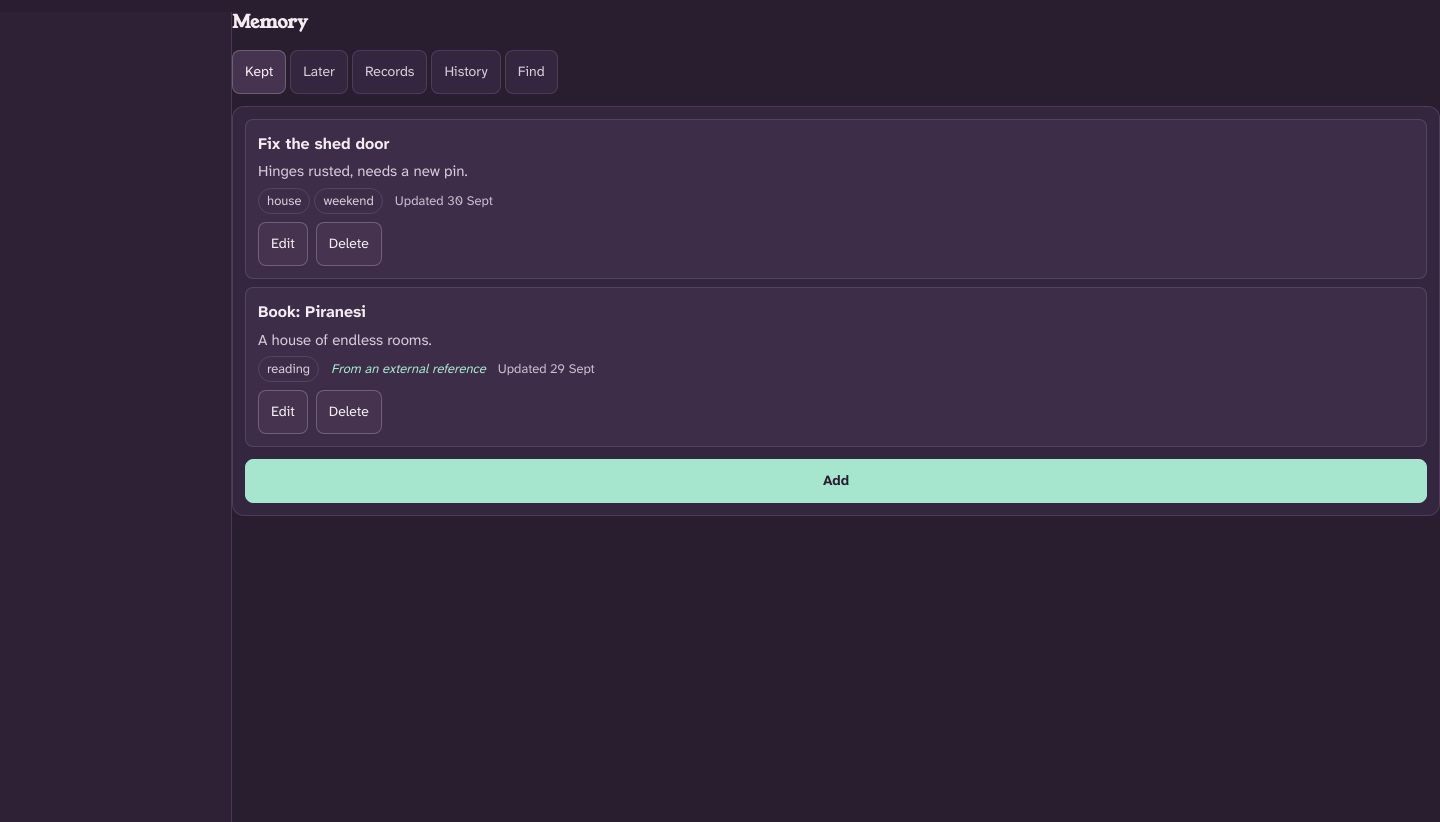
Test case: Memory add › Add posts only that table's fields plus title, with the CSRF header, and the new row appears
Click the tab "Kept" at (259, 72), box [232,50,286,94]
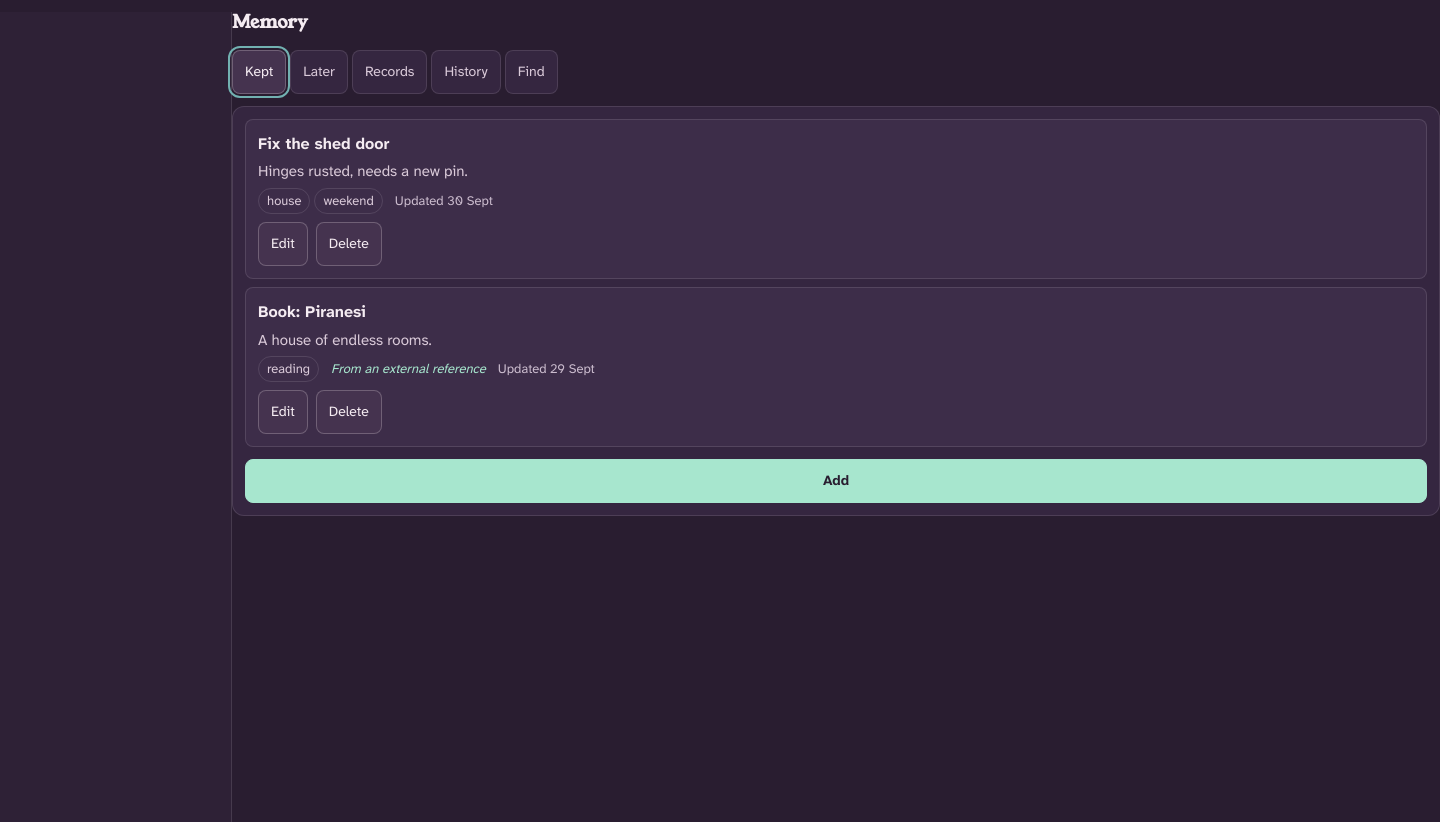
Click the button "Add" at (836, 481), box [245,459,1427,503]
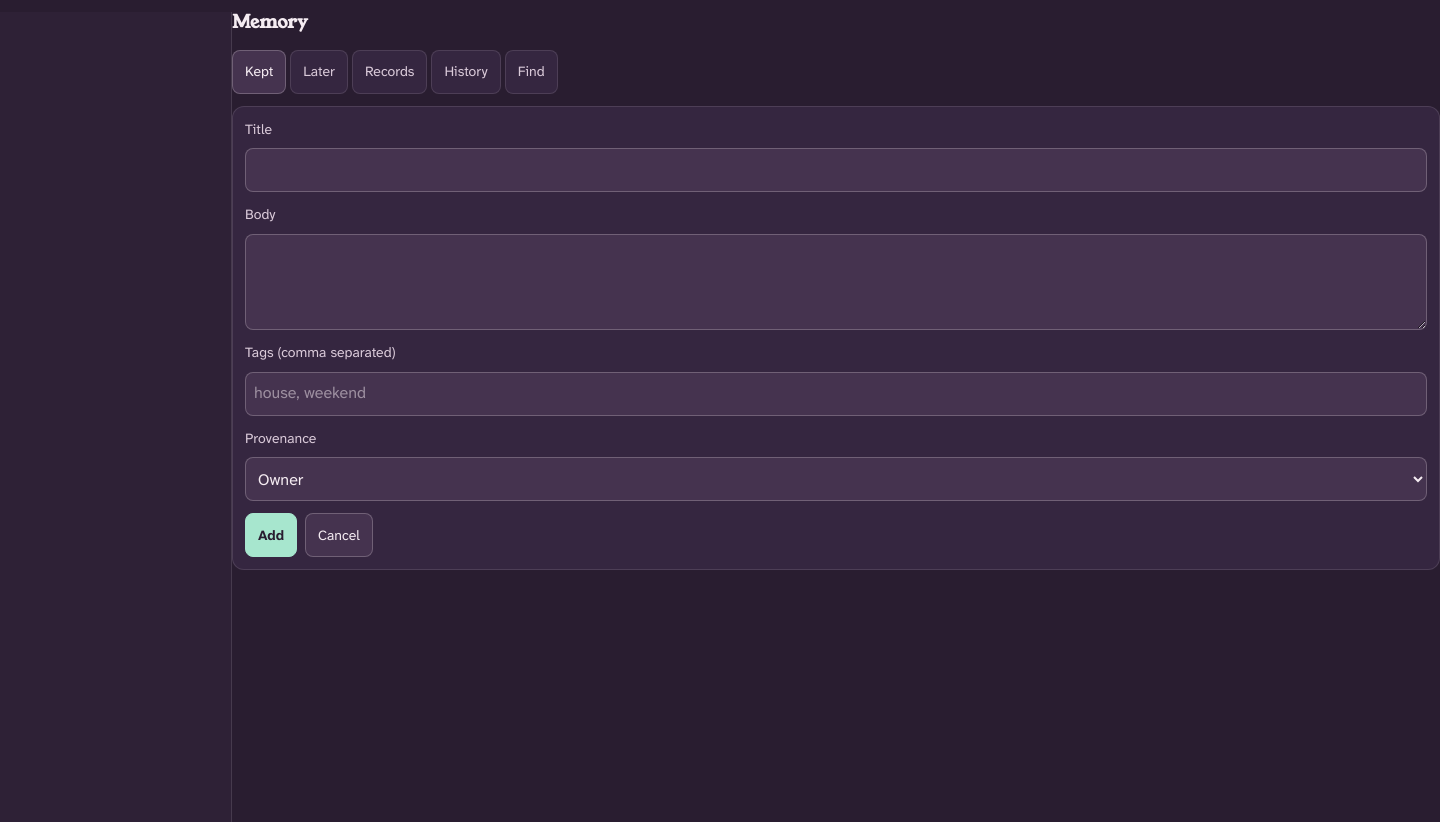
Type "Plant the garlic" into the field labelled "Title" at (836, 170), box [245,148,1427,192]
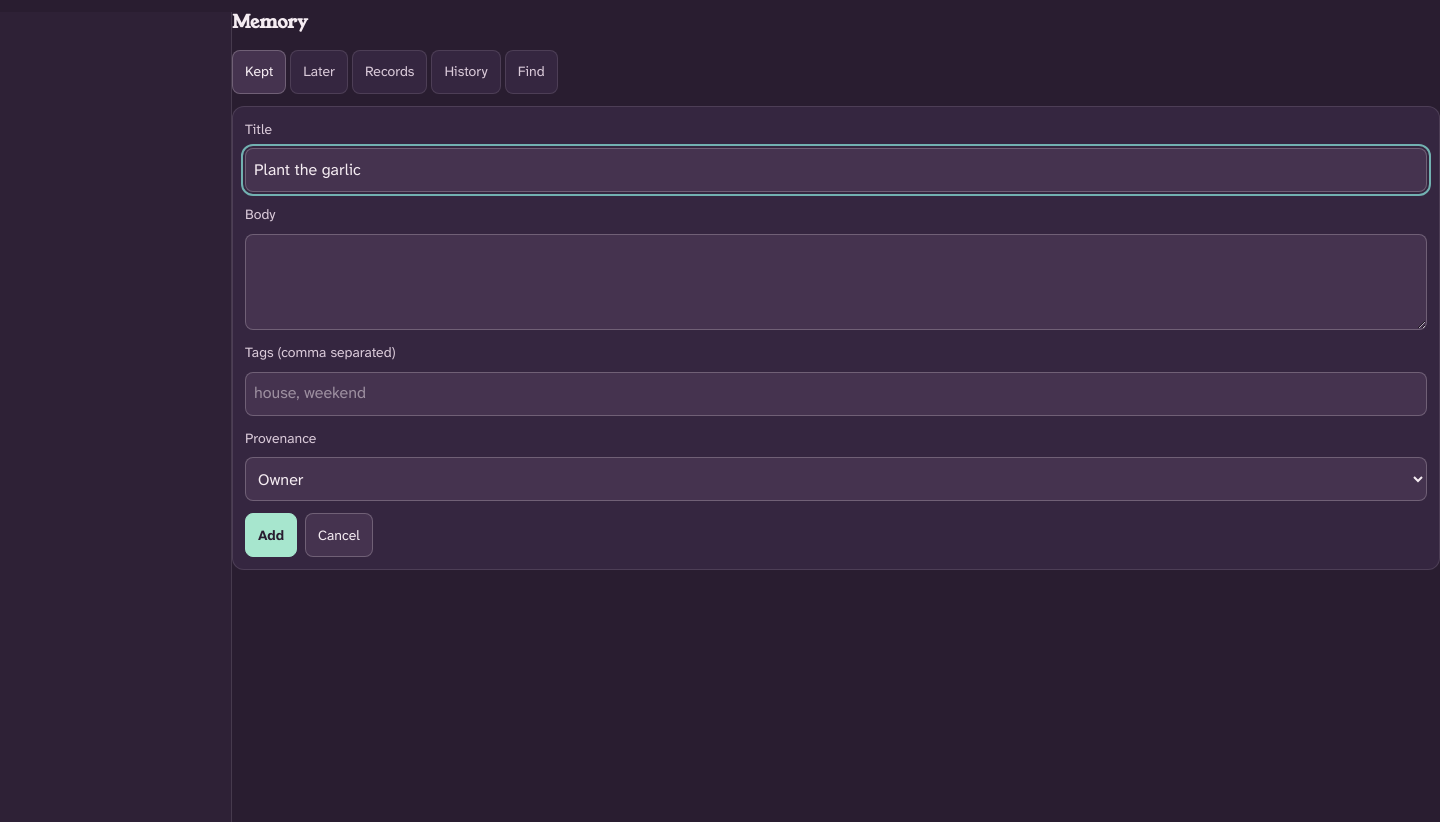
Type "In the back bed." into the text box labelled "Body" at (836, 282), box [245,234,1427,330]
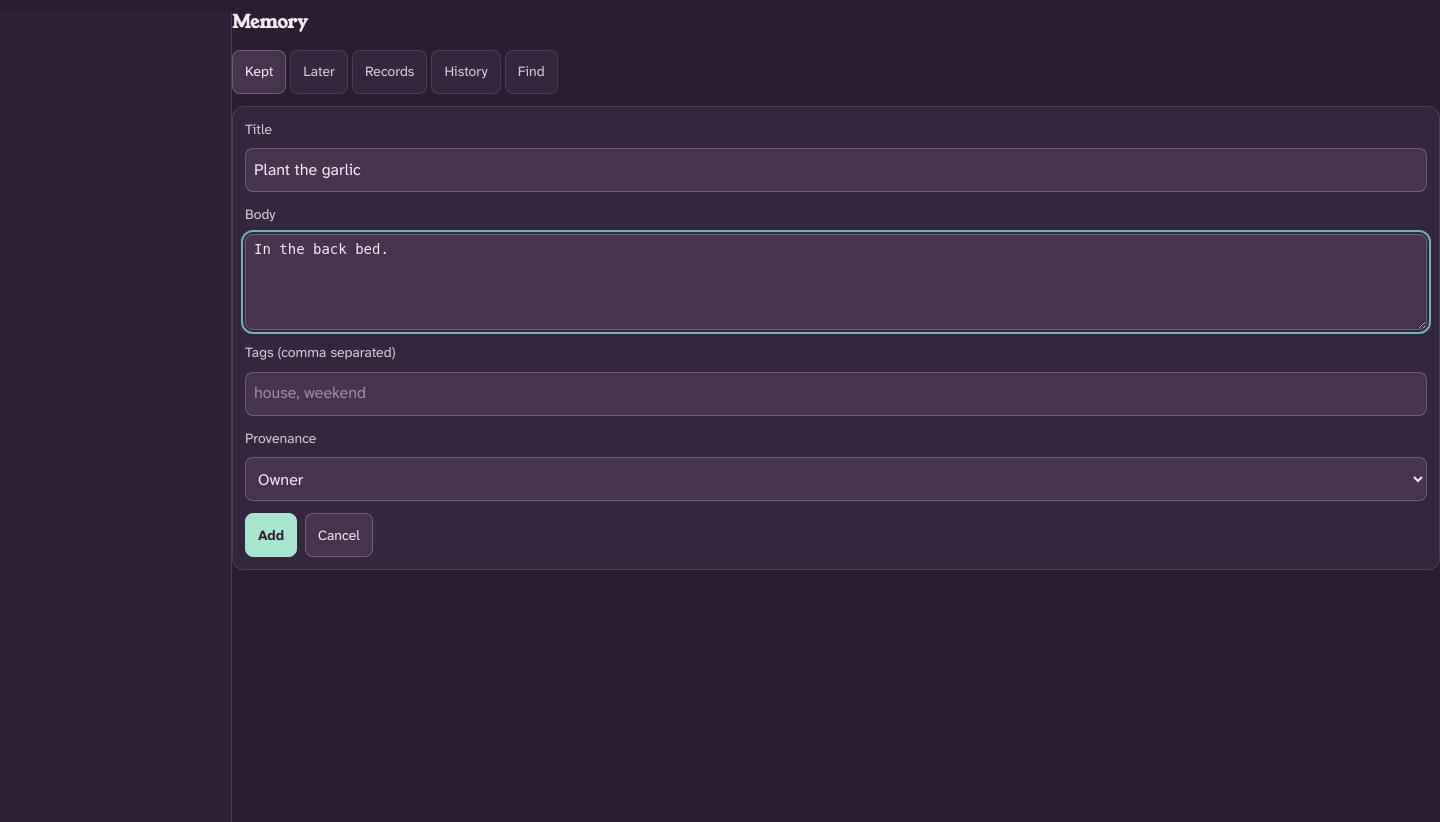
Click the button "Add" at (271, 535), box [245,513,297,557]
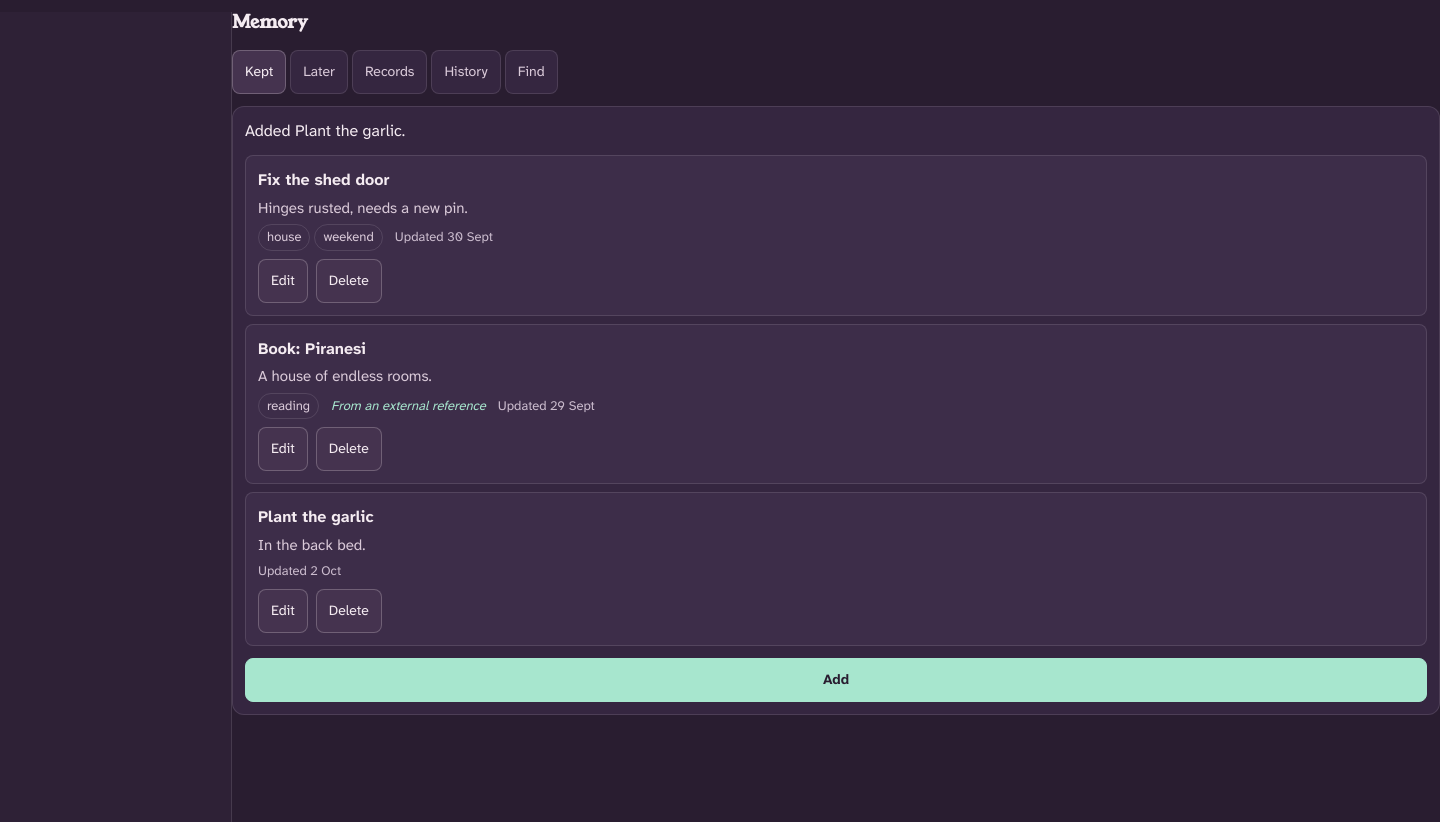
Result: the text "Plant the garlic" is shown at [258,505,374,530]
